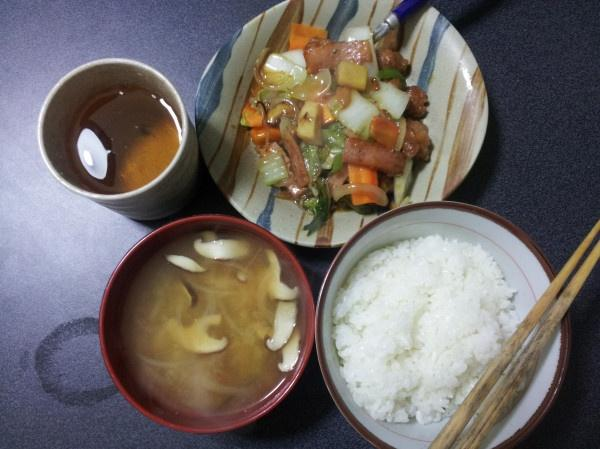plate: (195, 0, 487, 247)
rice: (331, 235, 518, 424)
